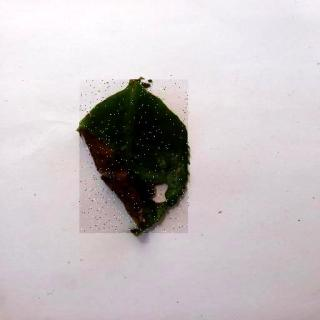Algal Leaf: (81, 81, 190, 235)
